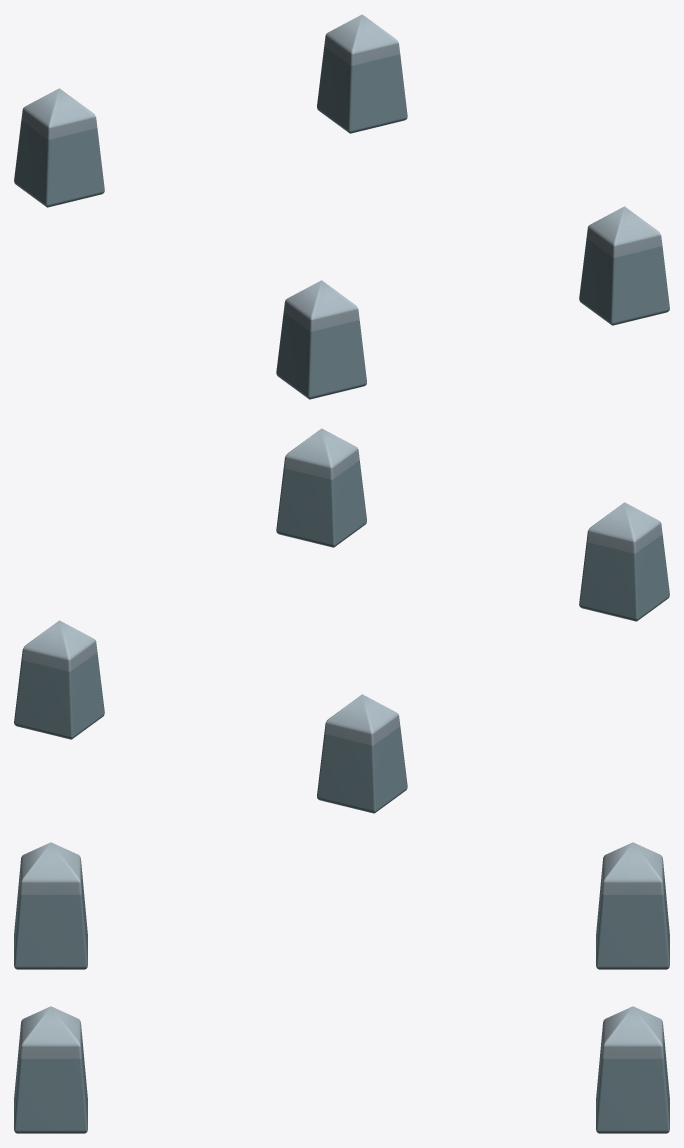
The model's file is Props.fbx.
3 renders of one model, top to bottom at view 1: azimuth 30°, elevation 25°; view 2: azimuth 150°, elevation 25°; view 3: azimuth 270°, elevation 25°, orthographic. The views are drawn at different scales.
Visible parts, largest first — view 1: 棱锥 (×4); view 2: 棱锥 (×4); view 3: 棱锥 (×4).
Boxes of the visible parts, x1,y1,x2,y2 form: 棱锥 (×4): (14, 14, 669, 399); 棱锥 (×4): (14, 428, 669, 813); 棱锥 (×4): (14, 842, 669, 1133).
Bounding box in the file's own units: 23.89 × 6.42 × 33.81.
